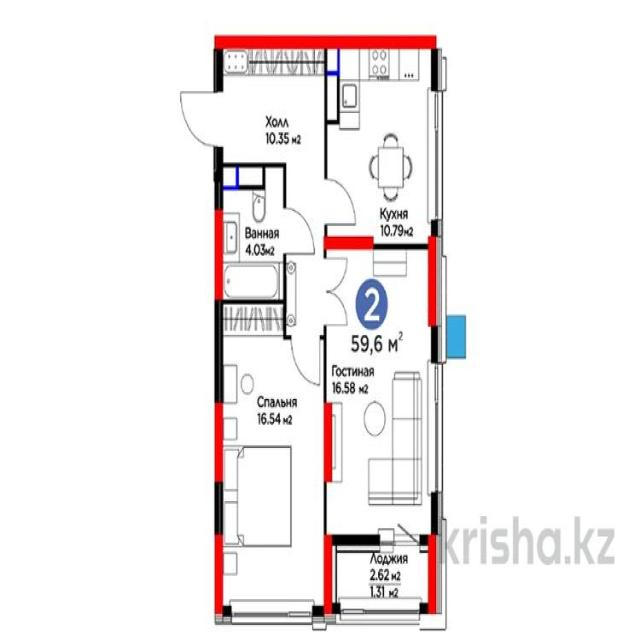balcony: (328, 542, 439, 621)
bathroom: (216, 164, 286, 300)
hallway: (218, 39, 327, 341)
kitchen: (325, 44, 437, 248)
living_room: (324, 243, 438, 546), (216, 330, 328, 616)
